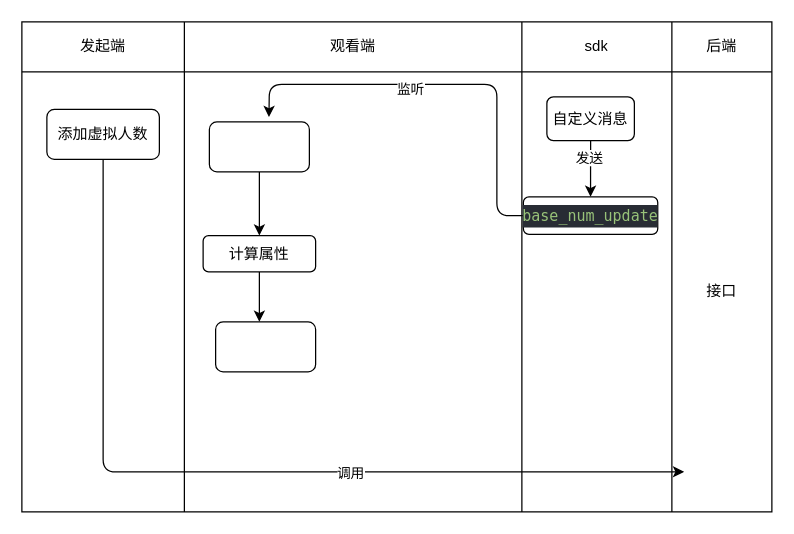
Some shapes in this 794 by 534 pixel diagram are drawn without their labels. Here are the shapes that lost their labels. From the top down, the box of each, then its label:
(208, 121, 309, 172): 显示人数和热度
(214, 321, 316, 372): 真实人数+虚拟人数
